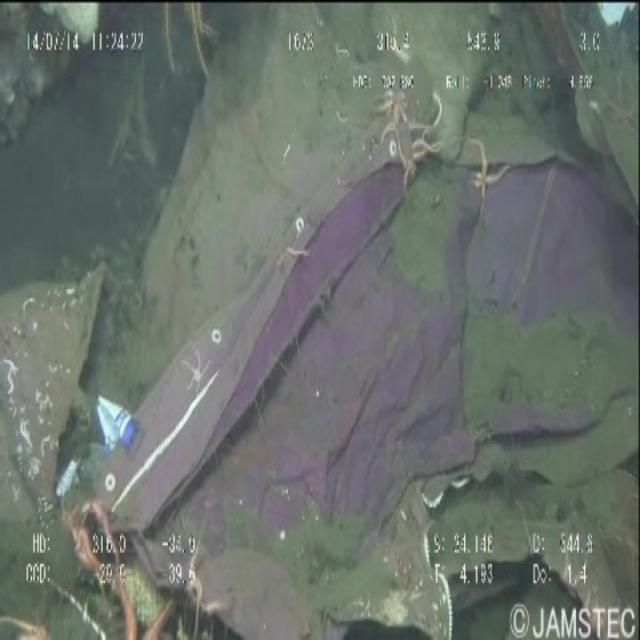Accessories: (93, 140, 634, 640)
Litter: (93, 395, 142, 467), (593, 0, 640, 63)
